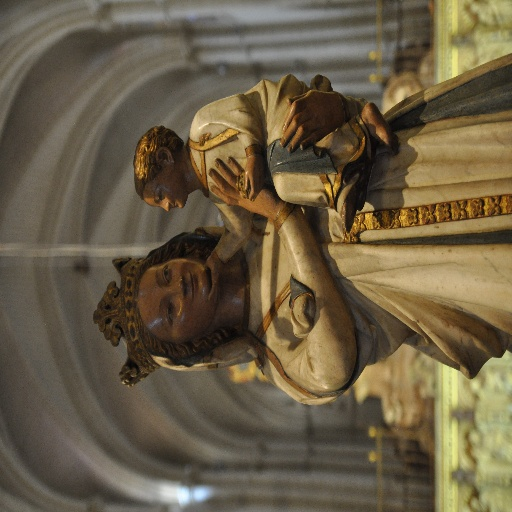hand: (272, 80, 360, 161), (208, 156, 288, 225), (241, 152, 268, 204)
